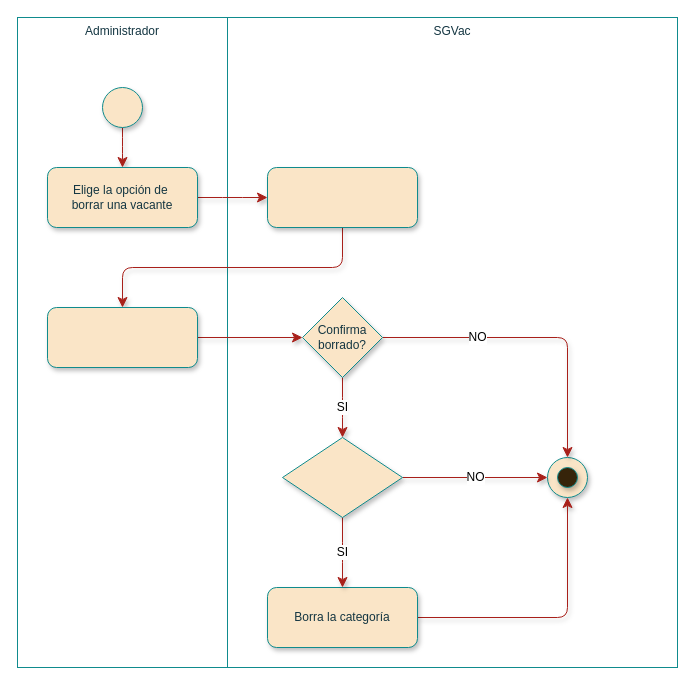
Image size: 695x685. Some labels were removed from this diagram. The centre of each missing label's shape, as x and y in pixels:
Confirma o cancela: (x=123, y=338)
Muestra una ventana de confirmación: (x=343, y=198)
Vacante en estado borrador?: (x=343, y=478)
